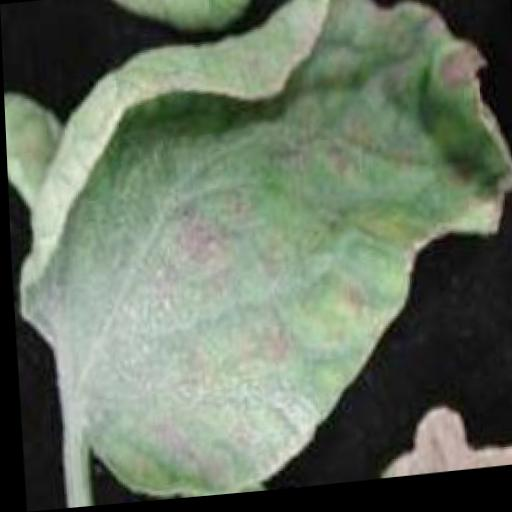Late Blight: (2, 0, 512, 512)
